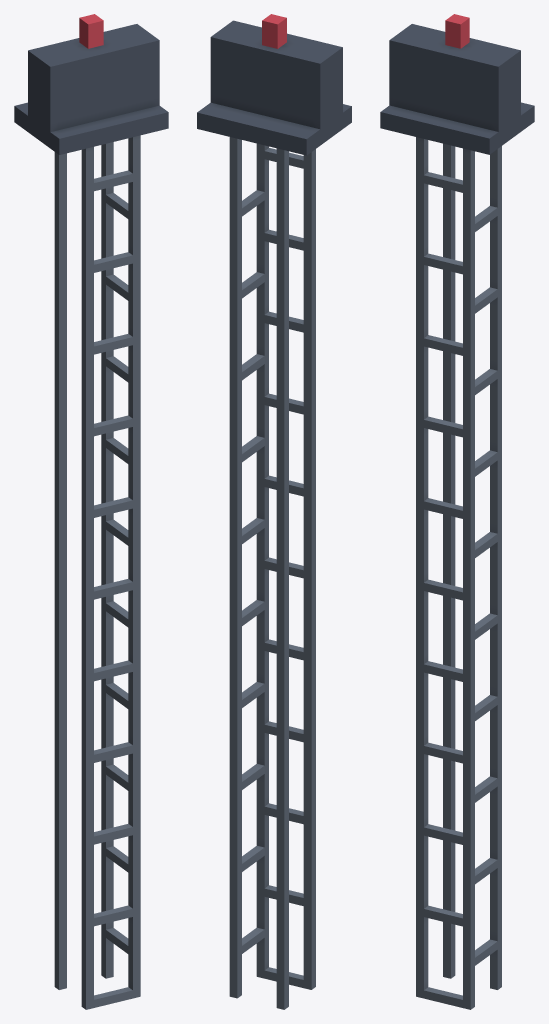
Rendered from floodlight.glb.
3 views of the same model, side by side, from view 1: azimuth 30°, elevation 25°; view 2: azimuth 150°, elevation 25°; view 3: azimuth 330°, elevation 25° (orthographic).
Visible parts, largest first — view 1: Model; view 2: Model; view 3: Model.
Part boxes in pixels (x1,y1,x2,y2): Model: [14, 14, 168, 1009]; Model: [197, 14, 351, 1009]; Model: [380, 14, 534, 1009].
Bounding box in the file's own units: 1.4 × 11.9 × 1.
